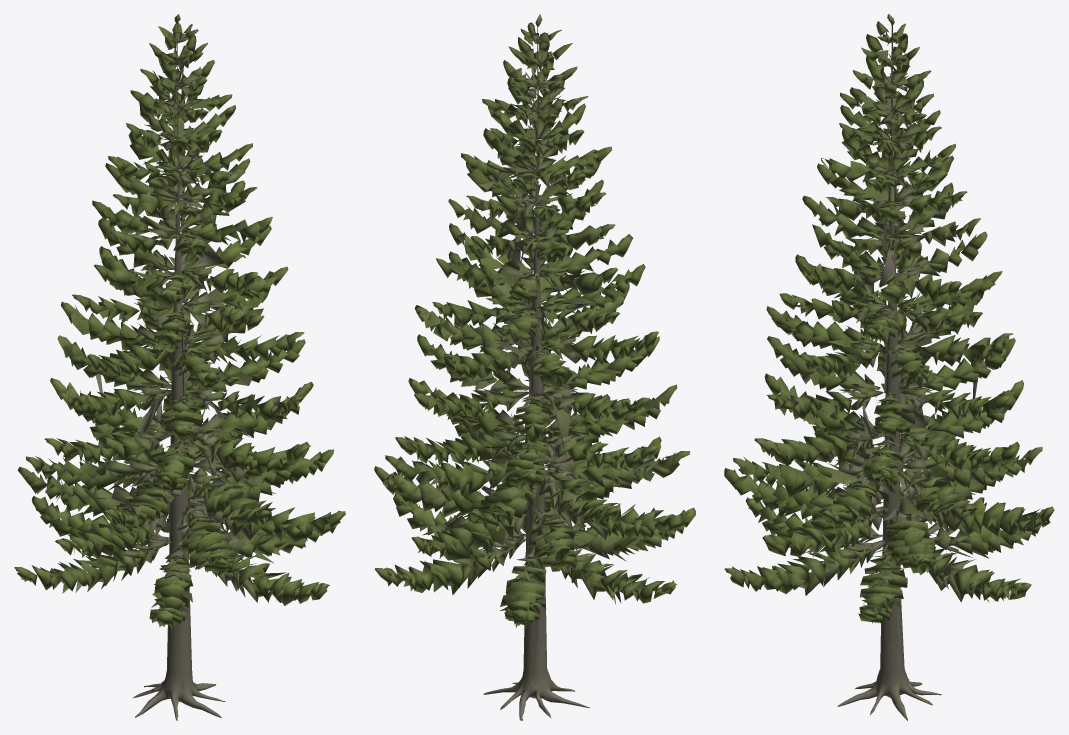
Rendered from araucaria_a.glb.
3 views of the same model, side by side, from view 1: azimuth 30°, elevation 25°; view 2: azimuth 150°, elevation 25°; view 3: azimuth 270°, elevation 25° (orthographic).
Bounding box in the file's own units: 0.4419 × 0.9507 × 0.416.
1 material, 1 textured.
